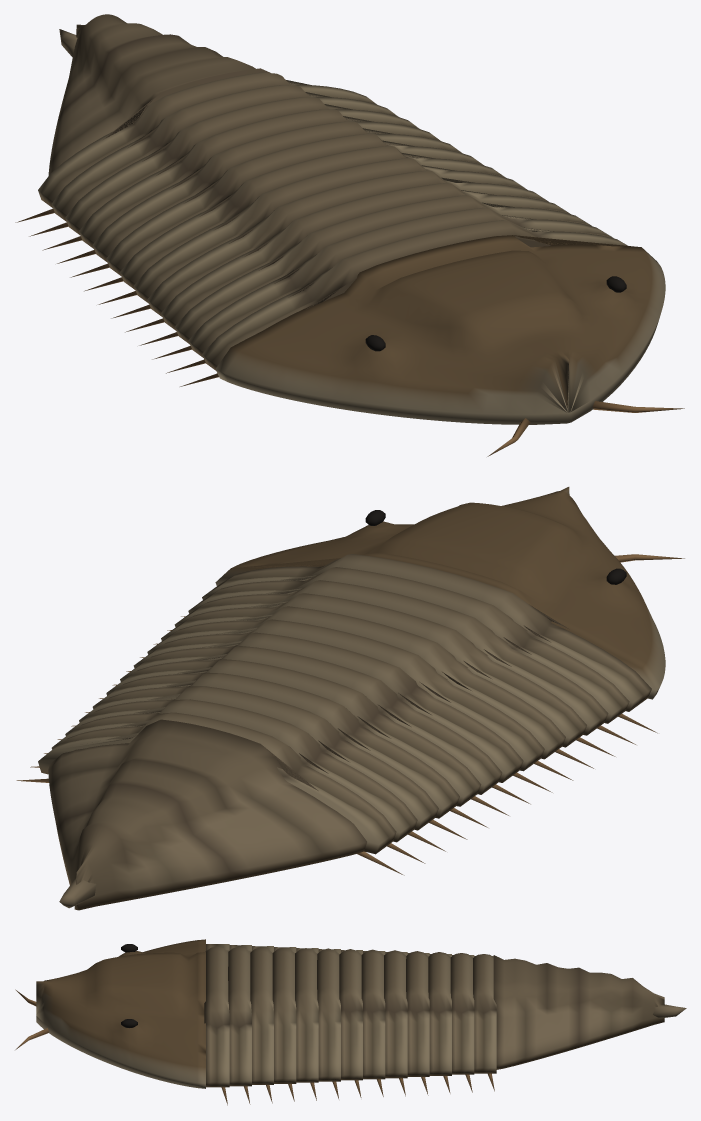
Rendered from TrimerusDelphinocephalus.fbx.
The picture shows the model from 3 angles, top to bottom: view 1: azimuth 30°, elevation 25°; view 2: azimuth 150°, elevation 25°; view 3: azimuth 270°, elevation 25°; orthographic projection. The views are drawn at different scales.
Parts seen in each view (by area): view 1: TrimerusDelphinocephalus; view 2: TrimerusDelphinocephalus; view 3: TrimerusDelphinocephalus.
Part boxes in pixels (box(x1,y1,x2,y2)): TrimerusDelphinocephalus: box(15, 14, 684, 456); TrimerusDelphinocephalus: box(16, 487, 684, 910); TrimerusDelphinocephalus: box(15, 939, 686, 1105).
Bounding box in the file's own units: 0.96 × 0.19 × 1.82.
